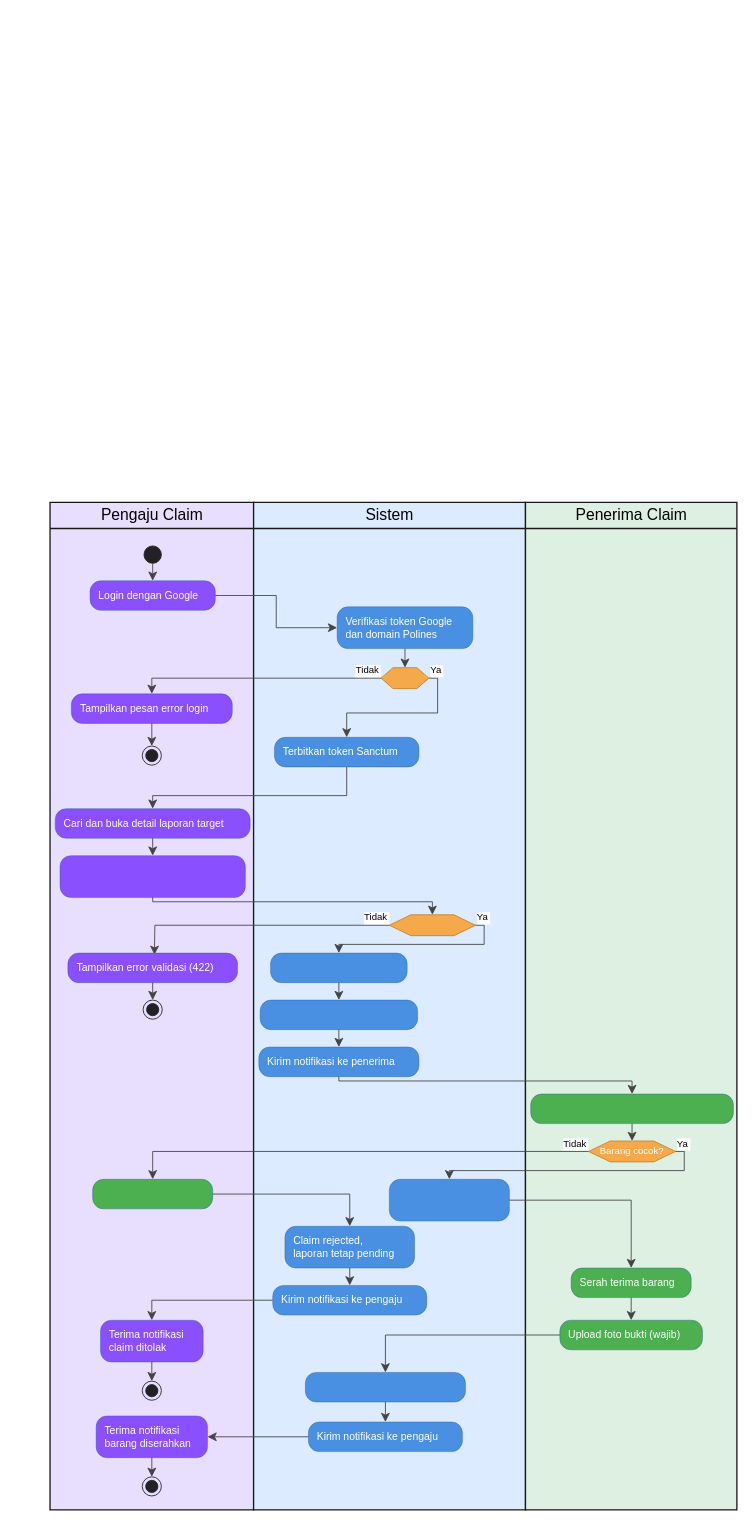
The diagram is 753 pixels wide and 1525 high, and some of its shapes have lost their labels. The shapes that lost their labels are listed below. From the top down, each one's centre as x and y in pixels, then its label:
the point at 404,678: Valid?
the point at 152,876: Ajukan claim (alasan, laporan sendiri opsional)
the point at 431,925: Validasi lolos?
the point at 338,967: Simpan claim (pending)
the point at 338,1014: Buat conversation per claim
the point at 631,1108: Buka chat dan verifikasi kepemilikan
the point at 152,1194: Isi alasan penolakan
the point at 449,1200: Claim accepted, laporan jadi claimed
the point at 385,1387: Claim dan laporan jadi returned
